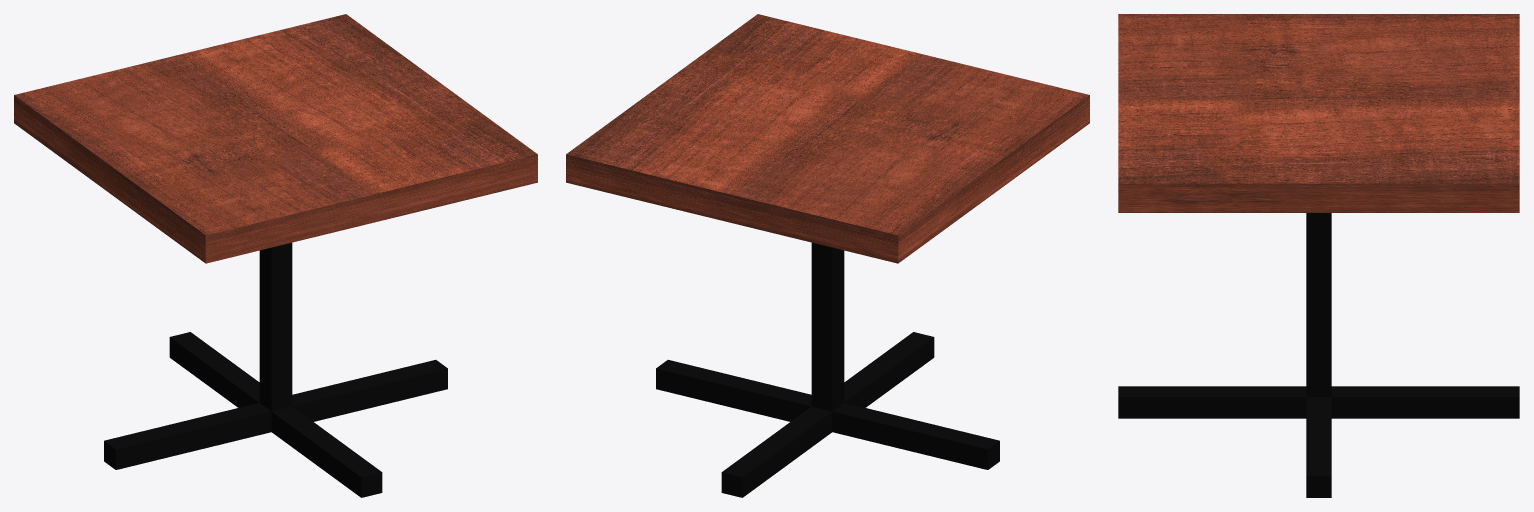
The model's file is BasicTable3.fbx.
3 renders of one model, left to right at view 1: azimuth 30°, elevation 25°; view 2: azimuth 150°, elevation 25°; view 3: azimuth 270°, elevation 25°, orthographic. The views are drawn at different scales.
Parts seen in each view (by area): view 1: pCube1; view 2: pCube1; view 3: pCube1.
Boxes of the visible parts, x1,y1,x2,y2 form: pCube1: (14,14,537,497); pCube1: (566,14,1089,497); pCube1: (1118,14,1519,497).
Size of the model in its own units: 100 by 86.45 by 100.
Materials: 2 (1 with a texture image).
